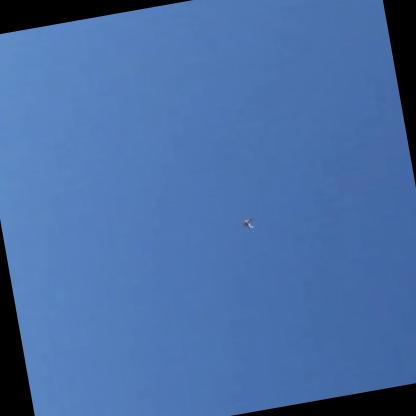plane: (241, 217, 255, 231)
